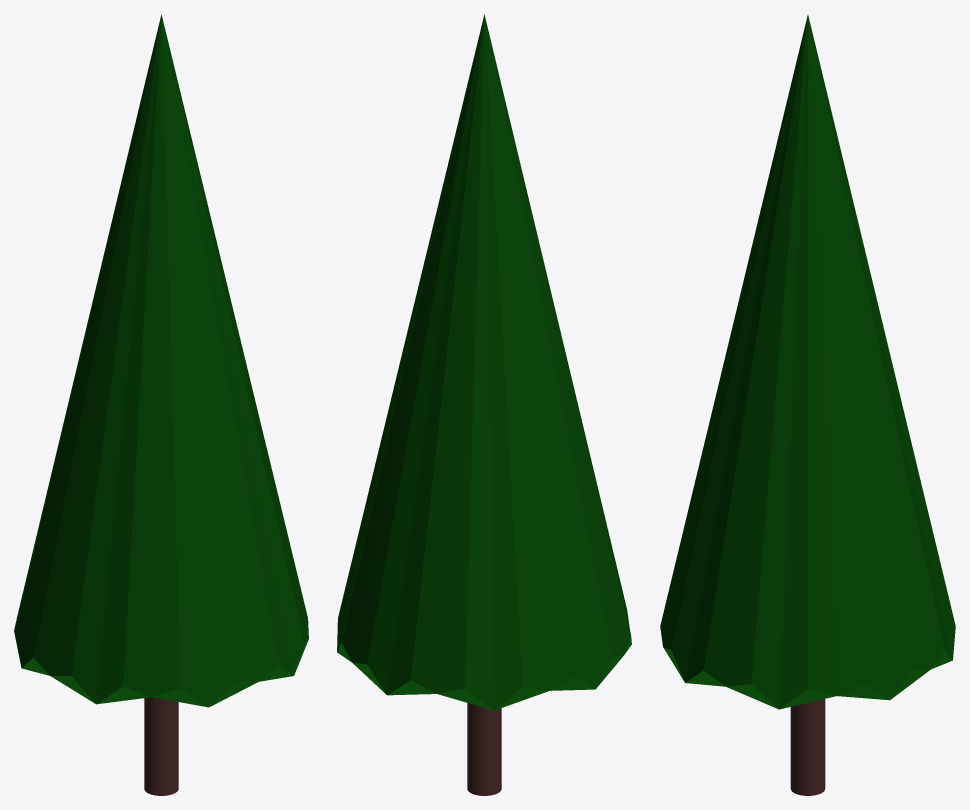
Rendered from fir_5.glb.
3 views of the same model, side by side, from view 1: azimuth 30°, elevation 25°; view 2: azimuth 150°, elevation 25°; view 3: azimuth 270°, elevation 25° (orthographic).
Visible parts, largest first — view 1: Cone, Cylinder; view 2: Cone, Cylinder; view 3: Cone, Cylinder.
Part boxes in pixels (left/top/right/bottom): Cone: left=14, top=14, right=308, bottom=707; Cylinder: left=144, top=697, right=178, bottom=795; Cone: left=337, top=14, right=631, bottom=710; Cylinder: left=467, top=703, right=501, bottom=795; Cone: left=660, top=15, right=955, bottom=709; Cylinder: left=790, top=699, right=825, bottom=795.
Size of the model in its own units: 3 by 8.67 by 3.
